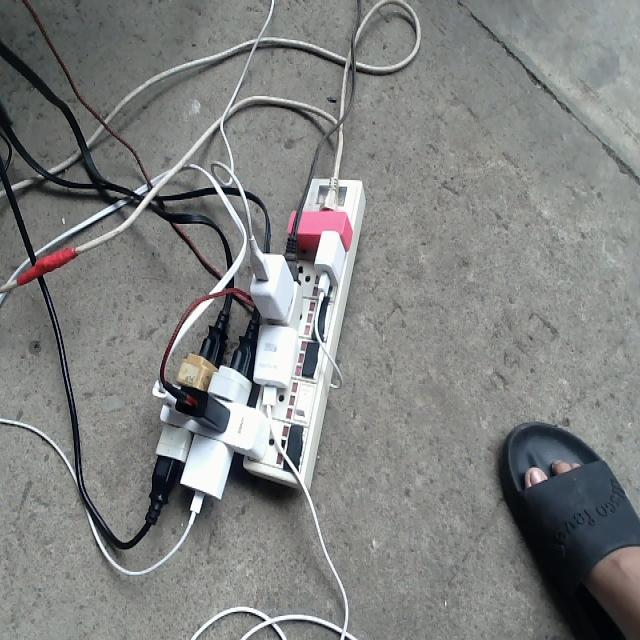-: (151, 175, 366, 514)
